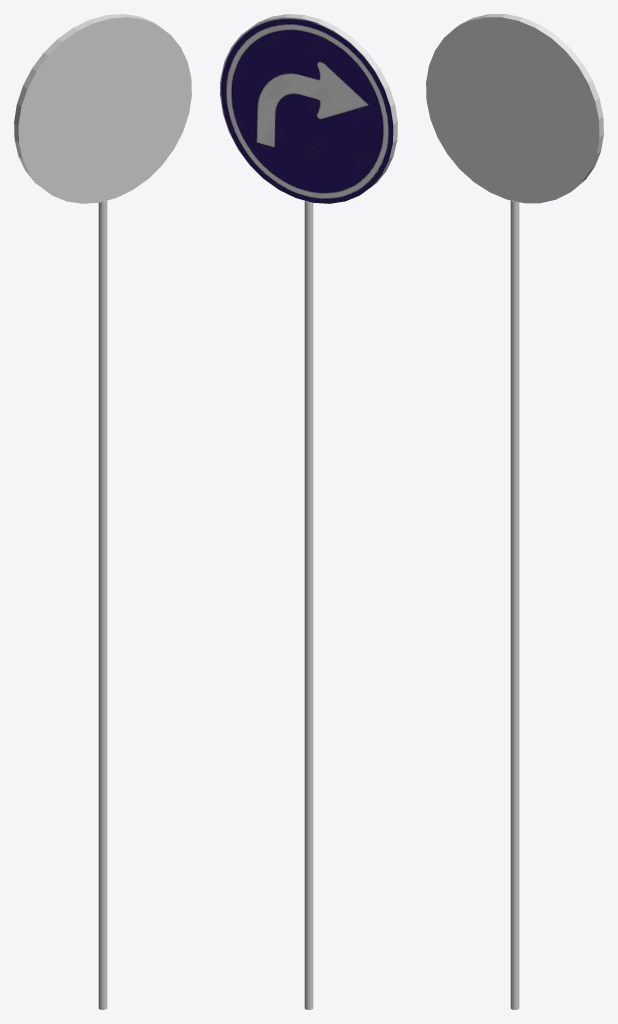
The model's file is sadsag.dae.
3 views of the same model, side by side, from view 1: azimuth 30°, elevation 25°; view 2: azimuth 150°, elevation 25°; view 3: azimuth 330°, elevation 25° (orthographic).
Visible parts, largest first — view 1: Cylinder_001, Cylinder; view 2: Cylinder_001, Cylinder; view 3: Cylinder_001, Cylinder.
Part boxes in pixels (box(x1,y1,x2,y2)): Cylinder_001: box(14, 14, 191, 203); Cylinder: box(98, 200, 107, 1009); Cylinder_001: box(220, 14, 397, 203); Cylinder: box(304, 200, 313, 1009); Cylinder_001: box(426, 14, 603, 203); Cylinder: box(510, 200, 519, 1009).
Bounding box in the file's own units: 0.4489 × 0.02 × 2.45.
1 material, 1 textured.
